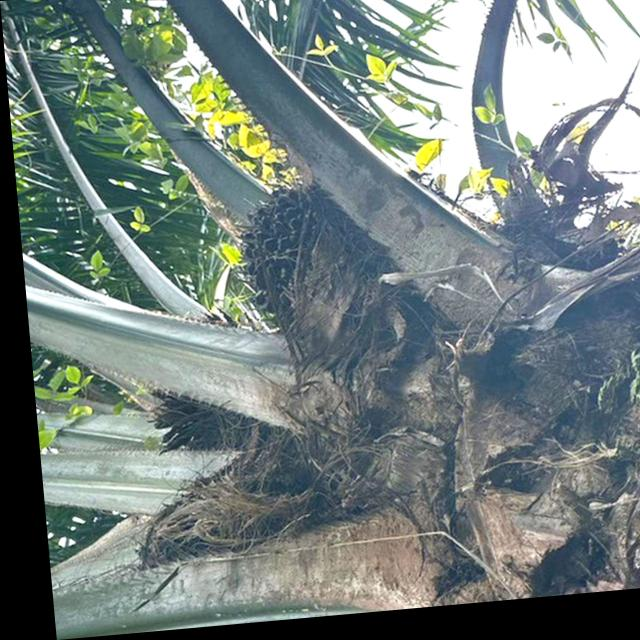almost: (218, 178, 392, 371)
